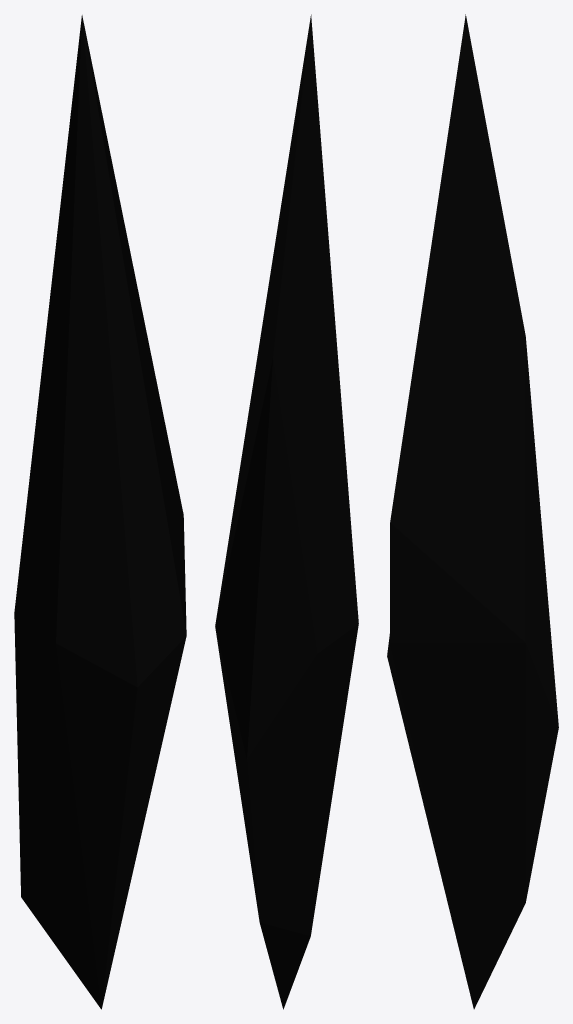
File: plane_lava_fire03.FBX
3 renders of one model, left to right at view 1: azimuth 30°, elevation 25°; view 2: azimuth 150°, elevation 25°; view 3: azimuth 270°, elevation 25°, orthographic. The views are drawn at different scales.
Parts seen in each view (by area): view 1: Box001; view 2: Box001; view 3: Box001.
Part boxes in pixels (x1,y1,x2,y2): Box001: (14, 15, 186, 1009); Box001: (215, 14, 358, 1009); Box001: (387, 14, 558, 1009).
Size of the model in its own units: 3.71 by 34.56 by 5.47.
Materials: 1 (1 with a texture image).
